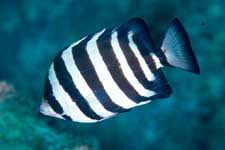azi: (36, 21, 191, 125)
